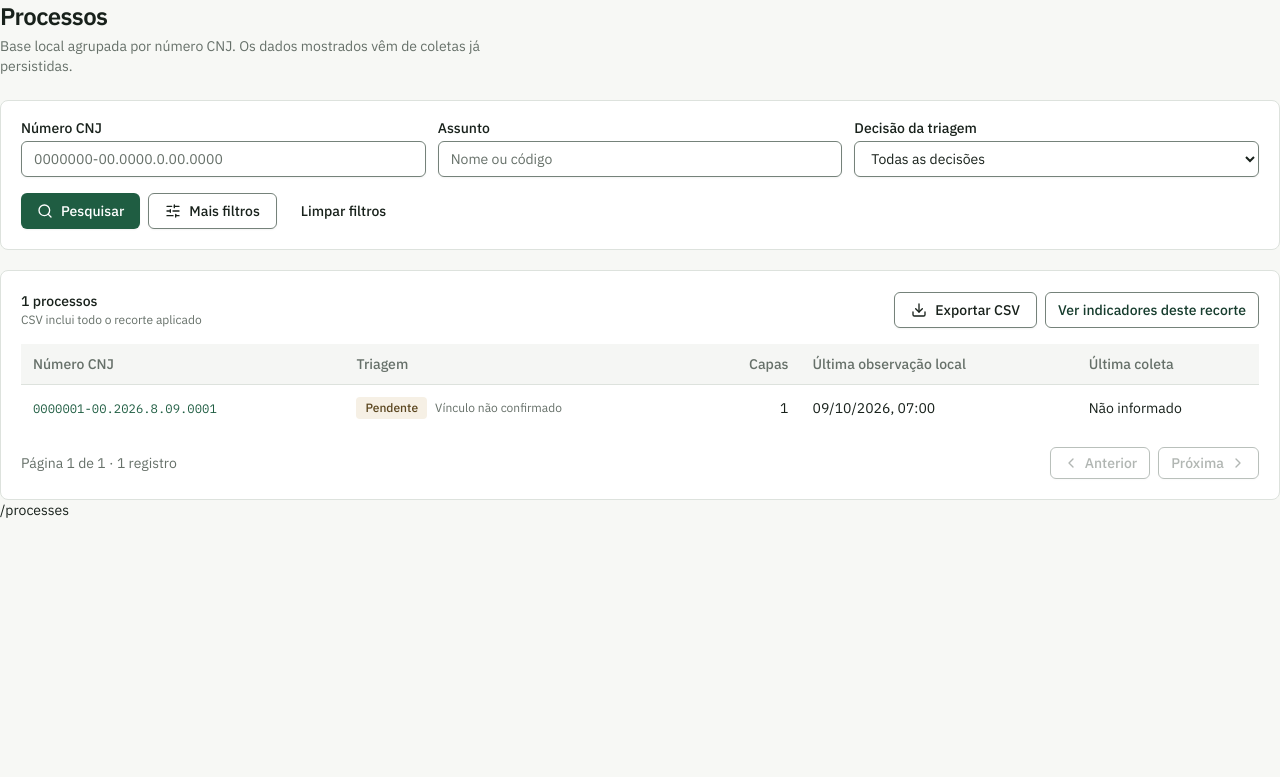
Test: ProcessesPage › applies the tribunal checkbox without crashing the page
Expected: the link "0000001-00.2026.8.09.0001" is shown, [33,400,217,416]
Click the button "Mais filtros" at [213, 211], box [148,193,277,229]
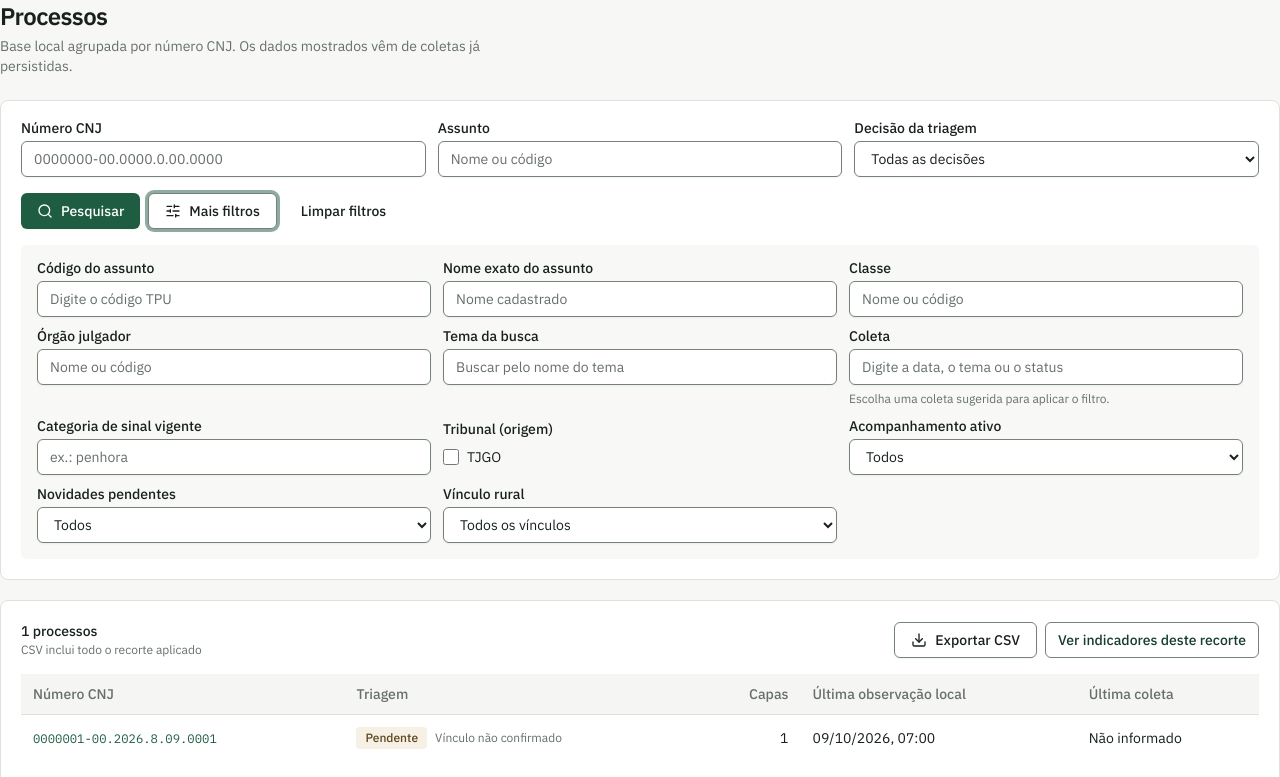
Click the checkbox labelled "TJGO" at [451, 457], box [443,449,459,465]
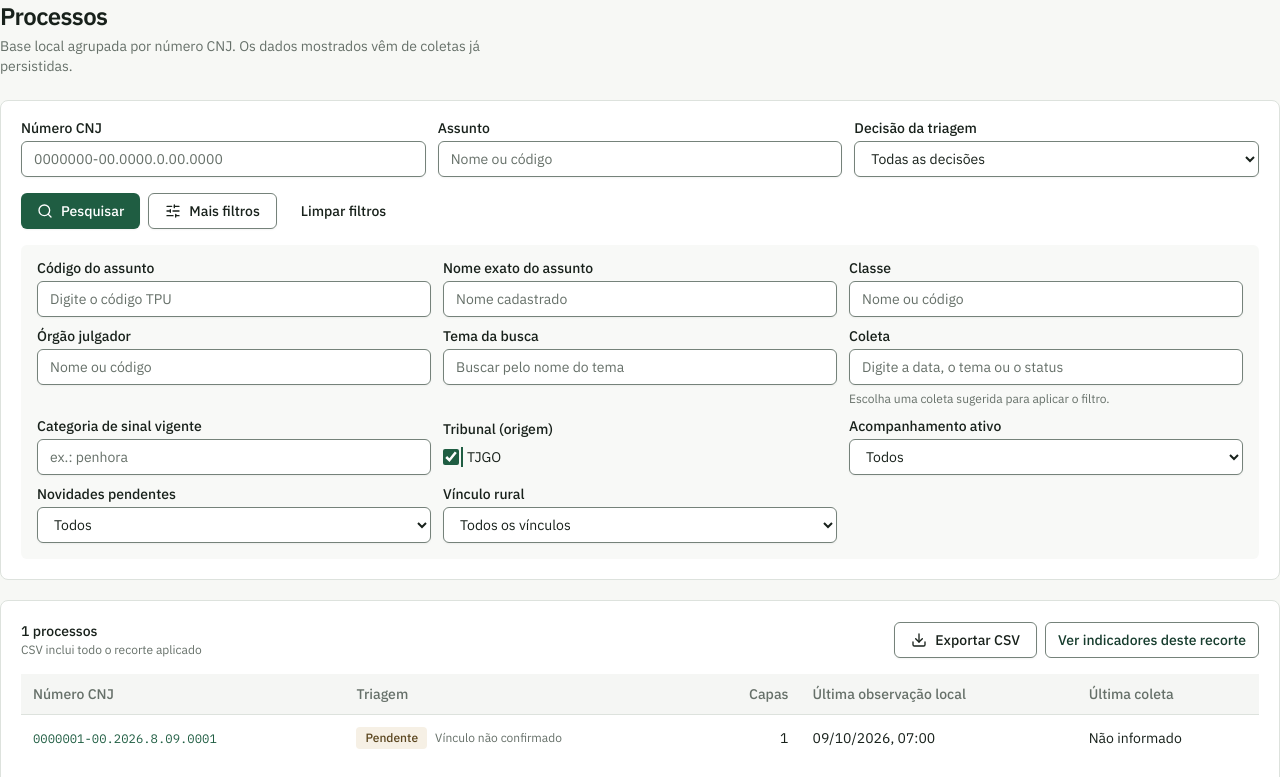
Expected: the heading "Processos" is shown, [0,0,107,32]
Now the checkbox labelled "TJGO" is checked, box [443,449,459,465]
Click the button "Pesquisar" at [81, 211], box [21,193,140,229]
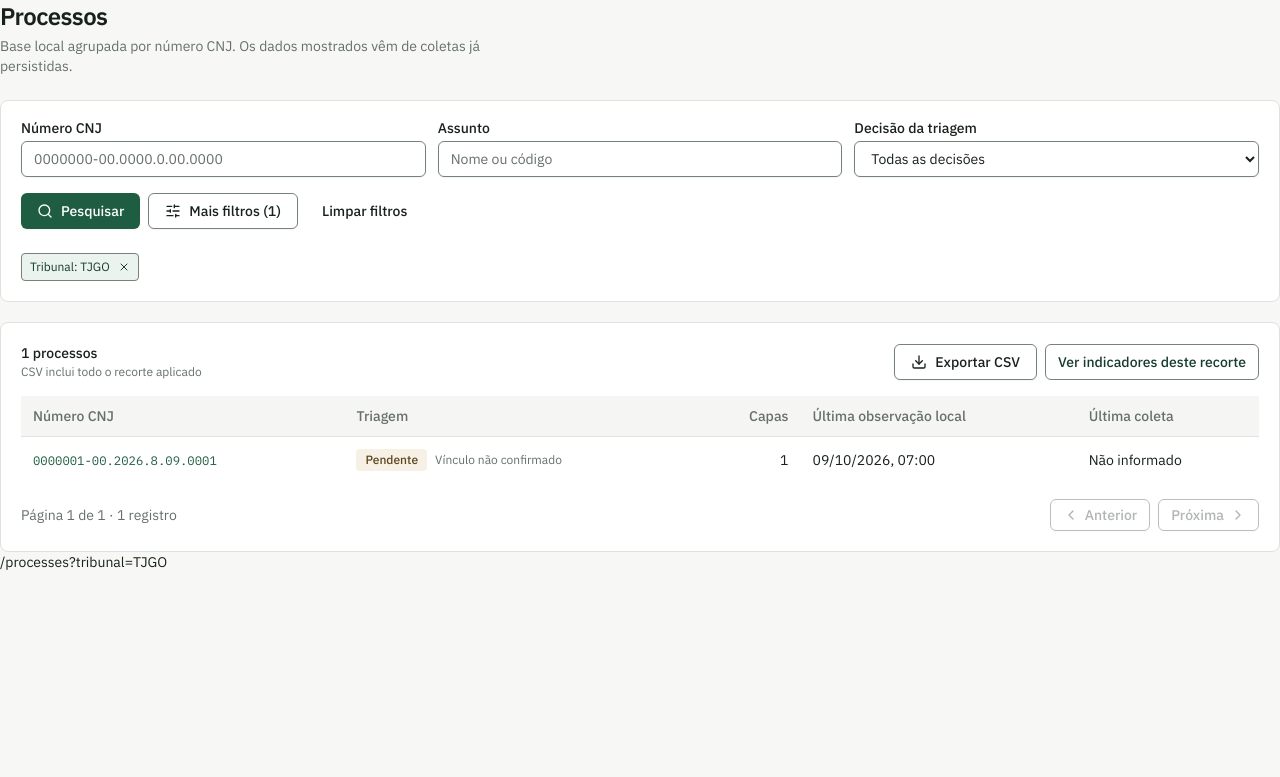
Now the text with test id "location" shows "tribunal=TJGO", box [0,552,167,570]
